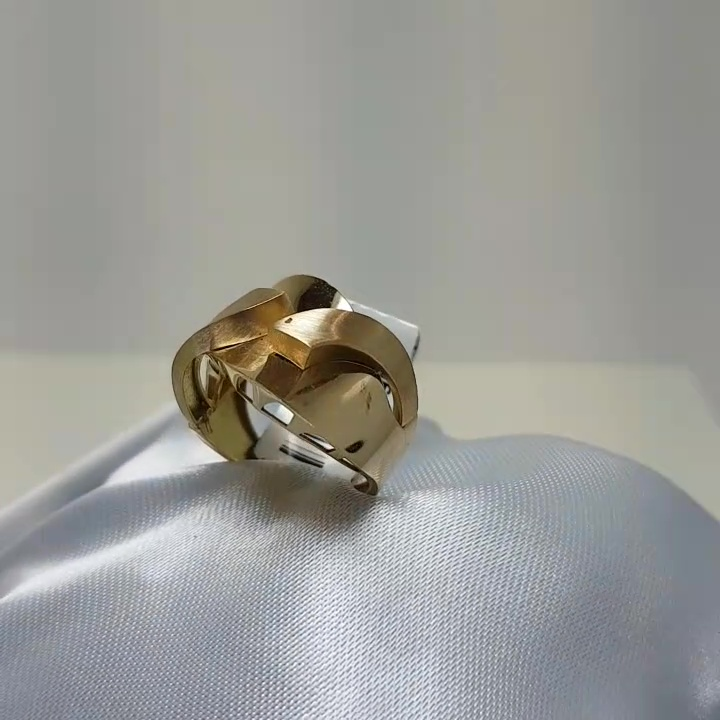Ring 4: (149, 264, 421, 525)
